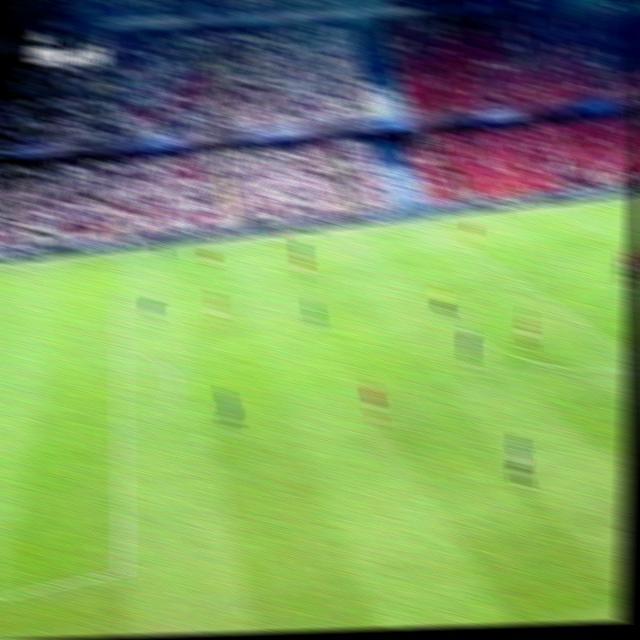bigarea_bottom_inner: (102, 555, 141, 588)
bigarea_top_inner: (113, 290, 129, 301)
bottom_arc_area_intersection: (115, 432, 131, 445)
halfcircle_top: (519, 279, 537, 291)
midline_top_intersection: (420, 216, 443, 230)
top_arc_area_intersection: (115, 339, 130, 353)
